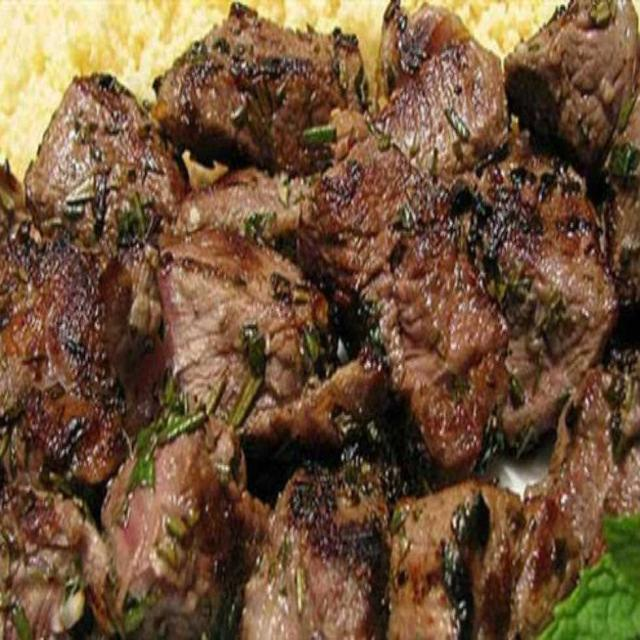Carne: (1, 1, 638, 638)
